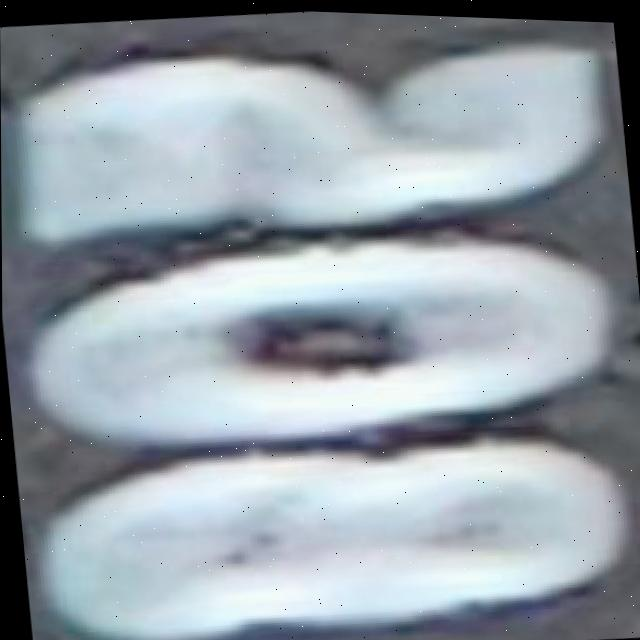character: (5, 202, 632, 479), (0, 7, 625, 274), (18, 403, 640, 640)
